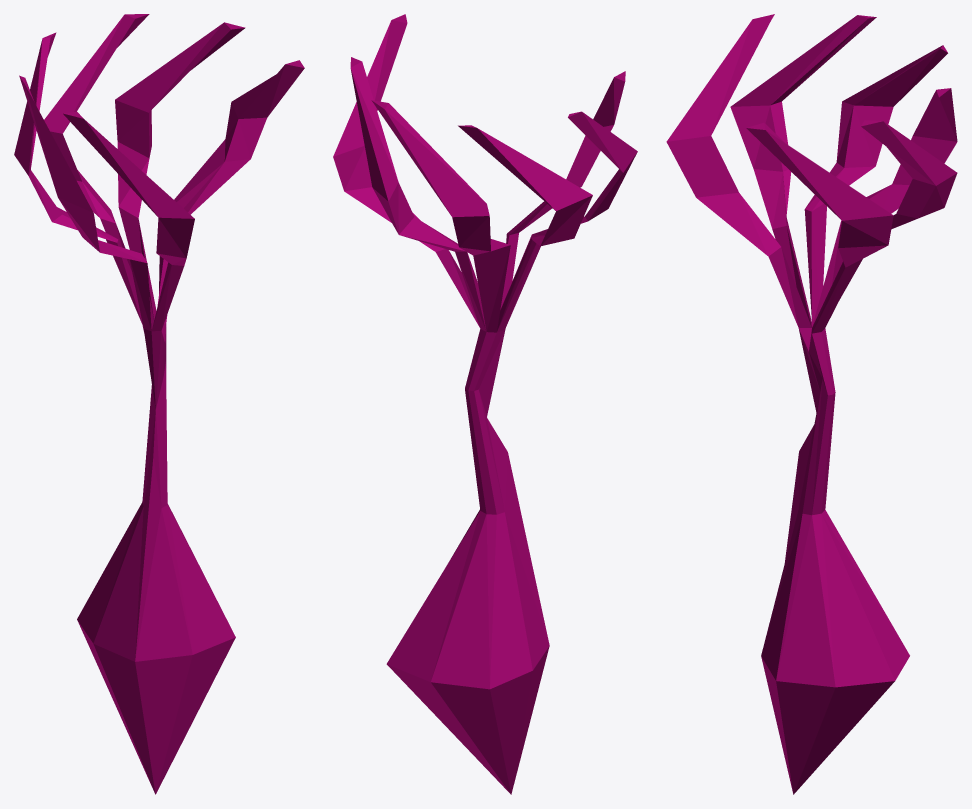
File: StrangeTree.fbx
The picture shows the model from 3 angles, left to right: view 1: azimuth 30°, elevation 25°; view 2: azimuth 150°, elevation 25°; view 3: azimuth 270°, elevation 25°; orthographic projection. The views are drawn at different scales.
Visible parts, largest first — view 1: StrangeTree; view 2: StrangeTree; view 3: StrangeTree.
Boxes of the visible parts, left/top/right/bottom form: StrangeTree: left=14, top=14, right=304, bottom=794; StrangeTree: left=333, top=14, right=637, bottom=794; StrangeTree: left=666, top=14, right=957, bottom=794.
Bounding box in the file's own units: 11.13 × 31.73 × 11.47.
